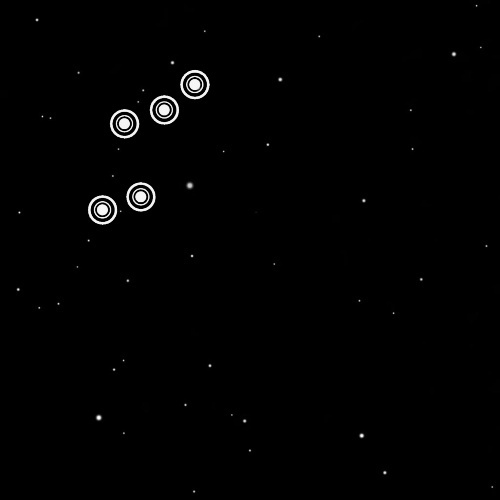lyra: (77, 56, 218, 238)
